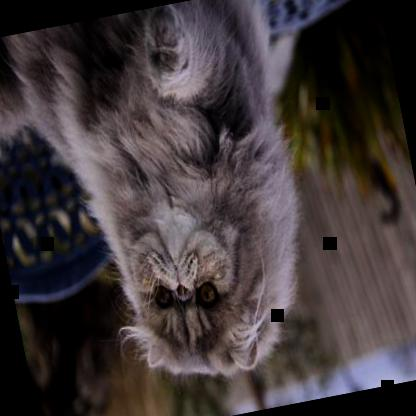cat: (0, 0, 332, 412)
